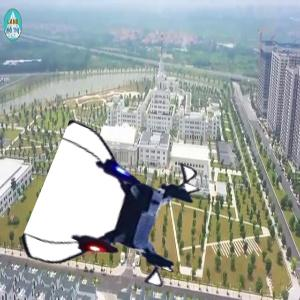drone: (40, 133, 198, 291)
